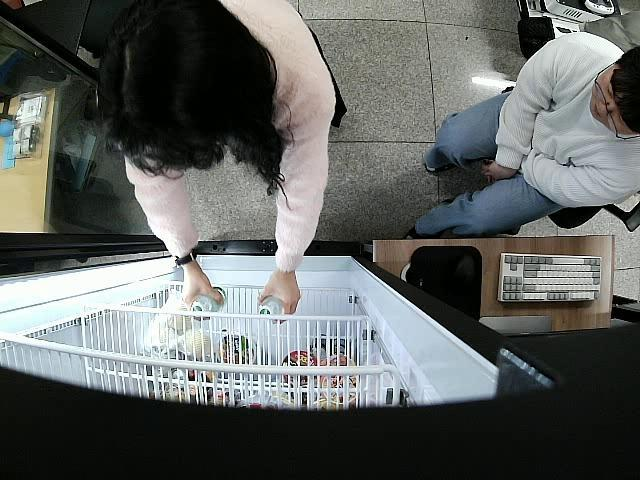18_trevi: (191, 287, 229, 322), (259, 296, 286, 324)
